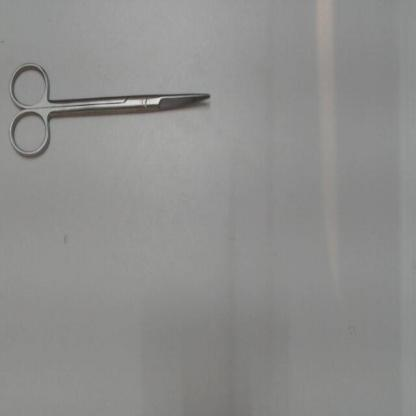Curved Mayo Scissors: (6, 60, 216, 164)
